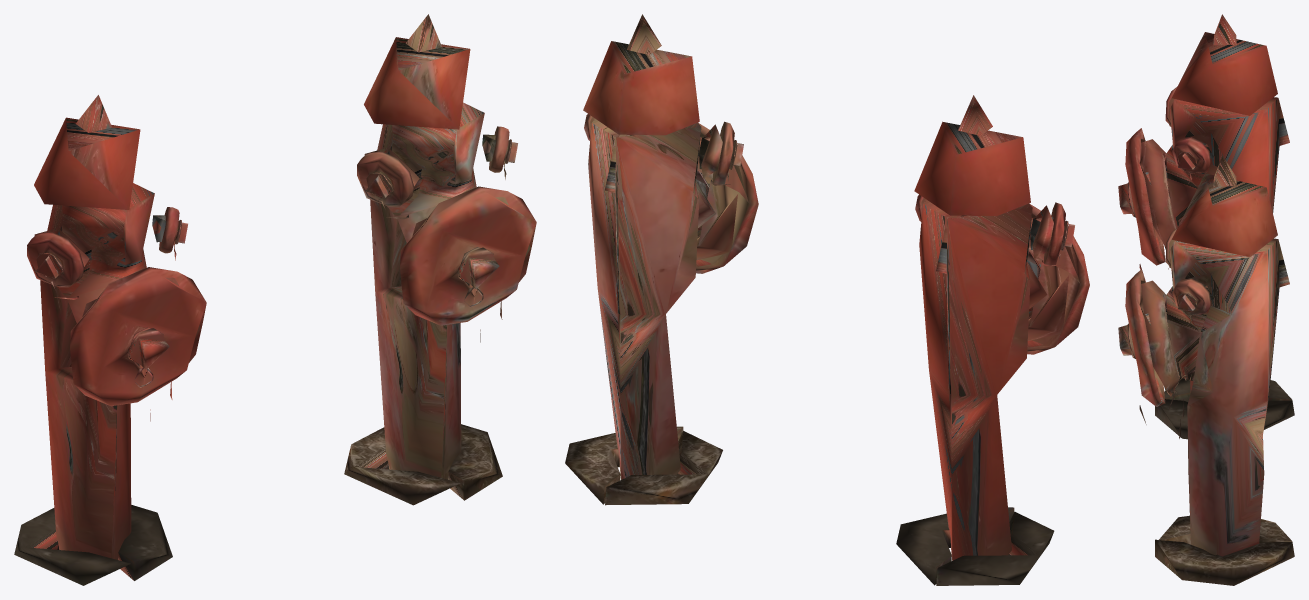
The model's file is fire_hydrant.glb.
3 renders of one model, left to right at view 1: azimuth 30°, elevation 25°; view 2: azimuth 150°, elevation 25°; view 3: azimuth 270°, elevation 25°, orthographic. The views are drawn at different scales.
Visible parts, largest first — view 1: fire_hydrant_aged, fire_hydrant, fire_hydrant_cap_01_aged, fire_hydrant_cap_01, Cylinder025, Cylinder008, Cylinder009, Cylinder026; view 2: fire_hydrant_aged, fire_hydrant, fire_hydrant_cap_01, fire_hydrant_cap_01_aged, Cylinder025, Cylinder008; view 3: fire_hydrant_aged, fire_hydrant, fire_hydrant_cap_01_aged, fire_hydrant_cap_01, Cylinder026, Cylinder009.
Part boxes in pixels (x1,y1,x2,y2): fire_hydrant_aged: (344, 14, 502, 505); fire_hydrant: (14, 95, 172, 585); fire_hydrant_cap_01_aged: (400, 186, 536, 325); fire_hydrant_cap_01: (70, 267, 206, 406); Cylinder025: (27, 232, 84, 287); Cylinder008: (357, 151, 414, 206); Cylinder009: (489, 126, 511, 172); Cylinder026: (159, 207, 181, 253); fire_hydrant_aged: (565, 14, 748, 505); fire_hydrant: (896, 95, 1079, 585); fire_hydrant_cap_01: (1027, 203, 1089, 354); fire_hydrant_cap_01_aged: (696, 123, 758, 273); Cylinder025: (1044, 202, 1068, 265); Cylinder008: (712, 121, 736, 184); fire_hydrant_aged: (1141, 155, 1294, 585); fire_hydrant: (1141, 14, 1294, 439); fire_hydrant_cap_01_aged: (1118, 269, 1165, 406); fire_hydrant_cap_01: (1118, 128, 1165, 265); Cylinder026: (1172, 137, 1211, 174); Cylinder009: (1172, 278, 1211, 315).
Bounding box in the file's own units: 0.8738 × 0.7964 × 0.3163.
2 materials, 2 textured.
